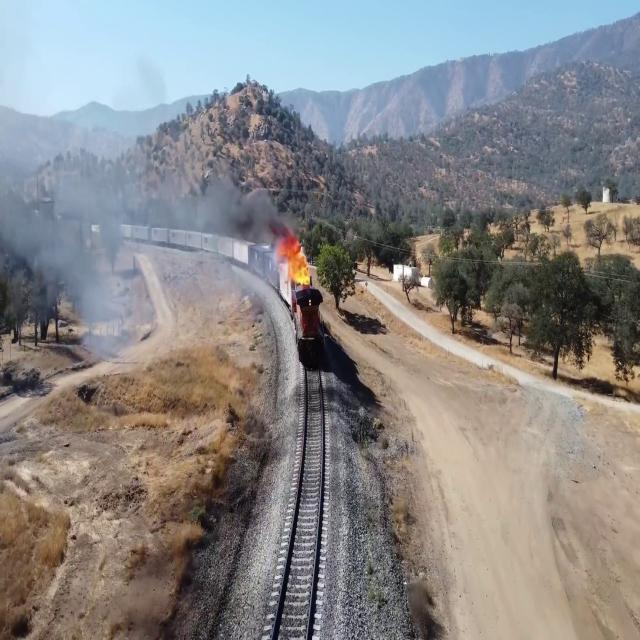Fire: (283, 228, 321, 284)
Smoke: (56, 167, 101, 285)
